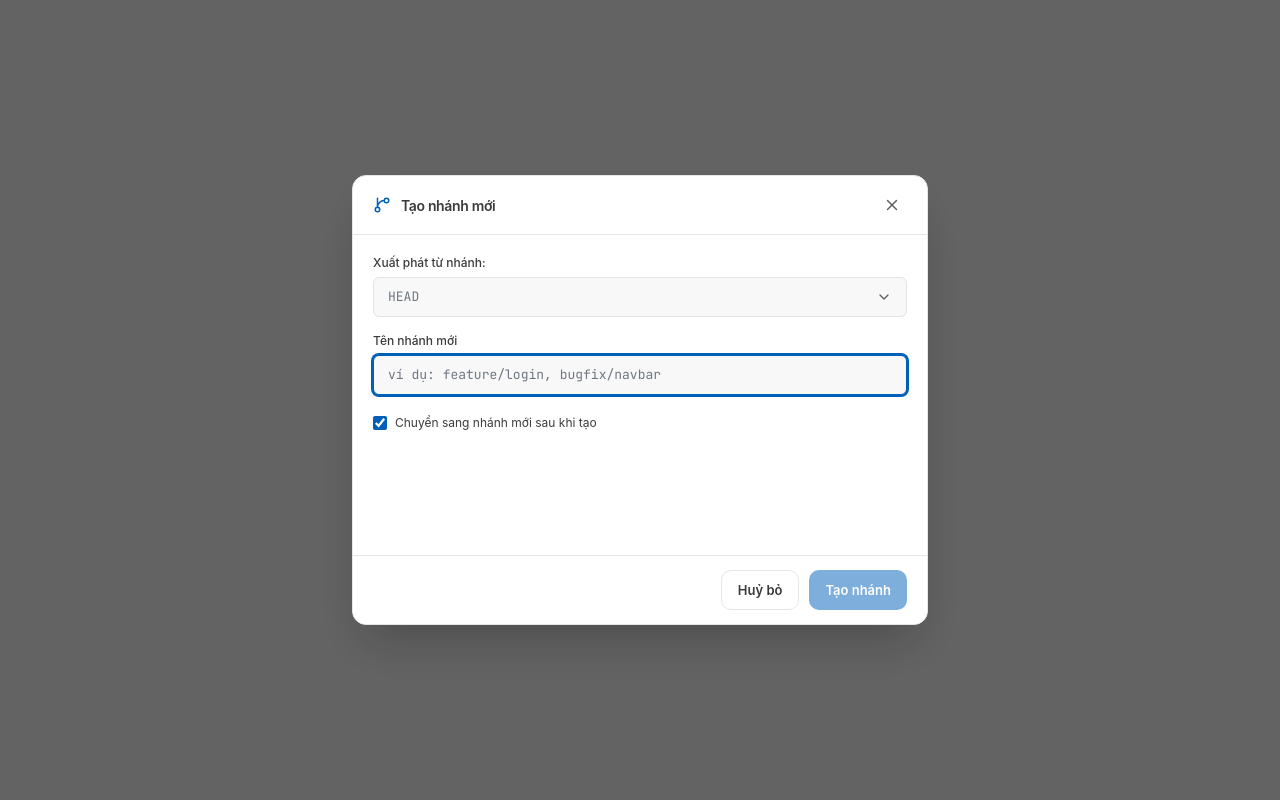
CreateBranchModal › filters branch list when typing into search input in custom dropdown
Click the dropdown named "Xuất phát từ nhánh" at (404, 296), box [373,277,907,317]
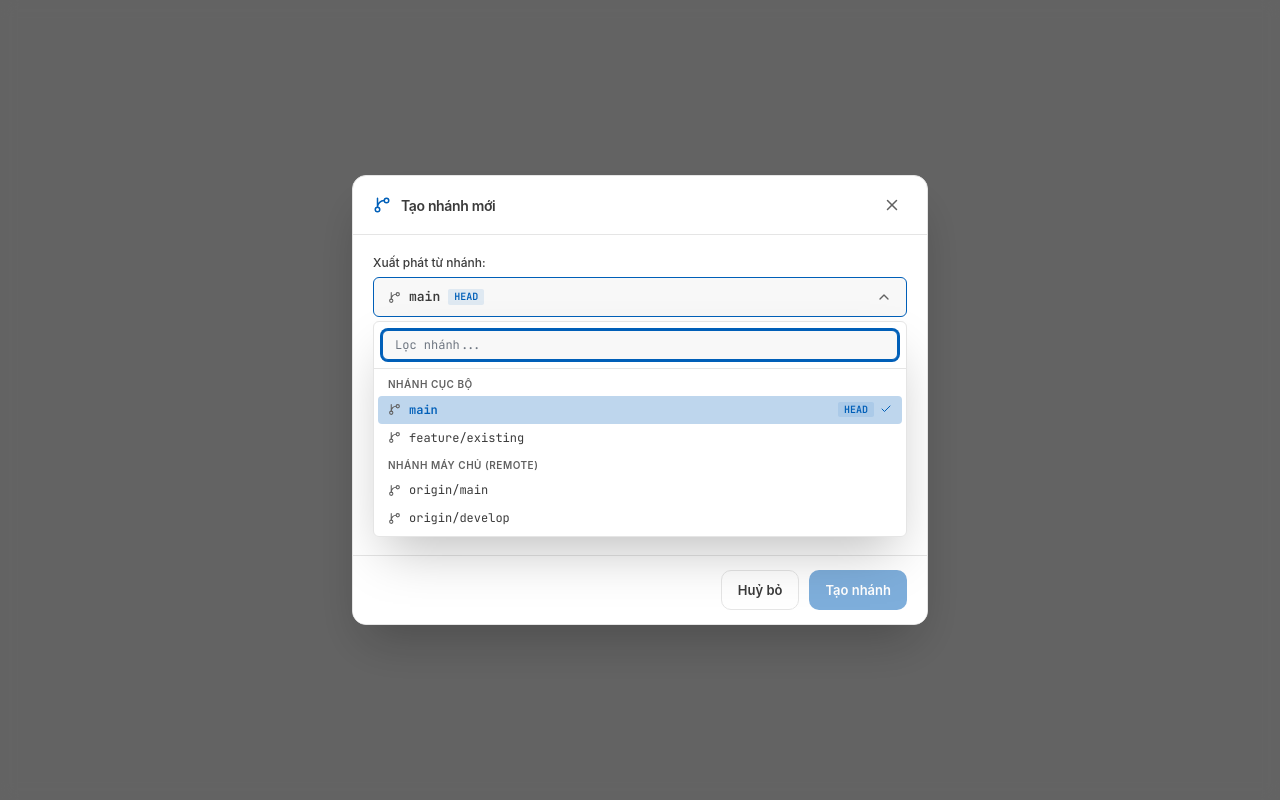
Expected: the option "origin/develop" is shown, [388,510,510,526]
Type "develop" into the search field with placeholder "Lọc nhánh..." at (640, 345), box [382,330,898,360]
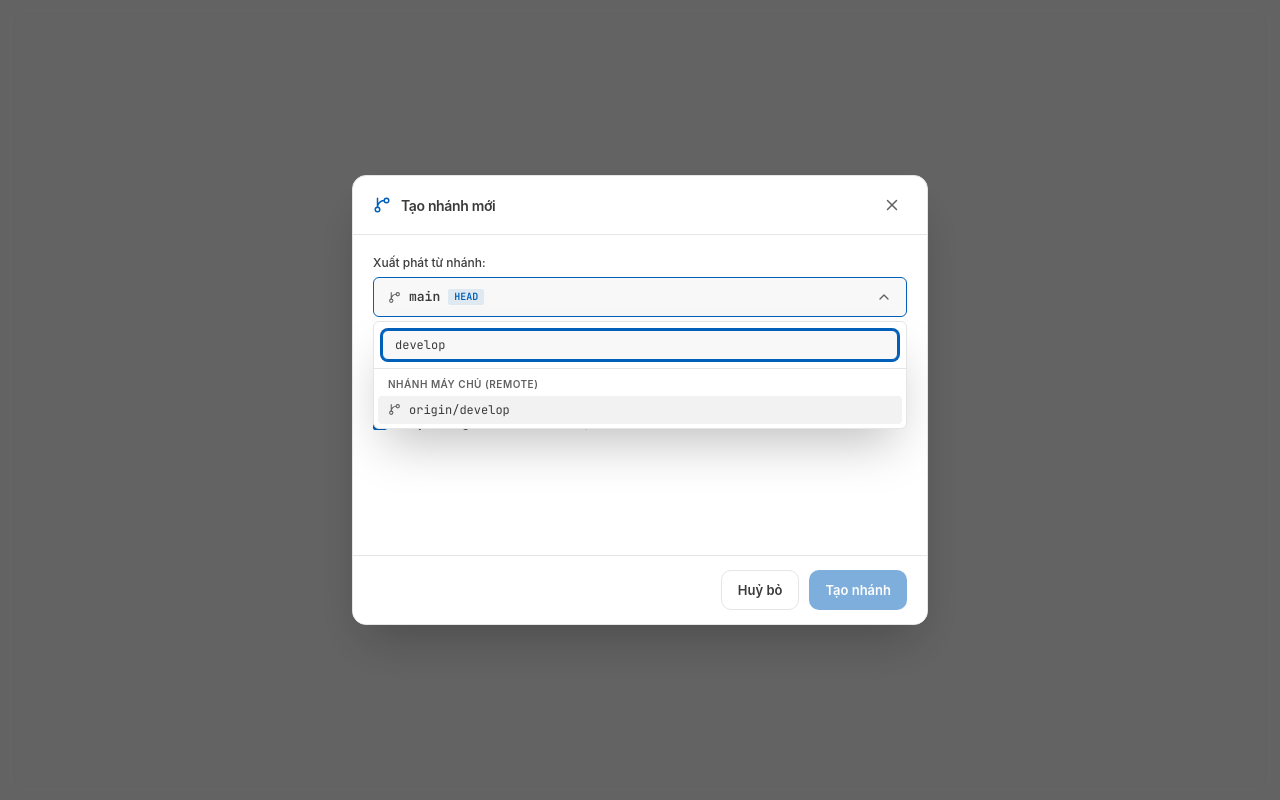
Expected: the option "origin/develop" is shown, [378,396,902,424]
Expected: the option "feature/existing" is gone
